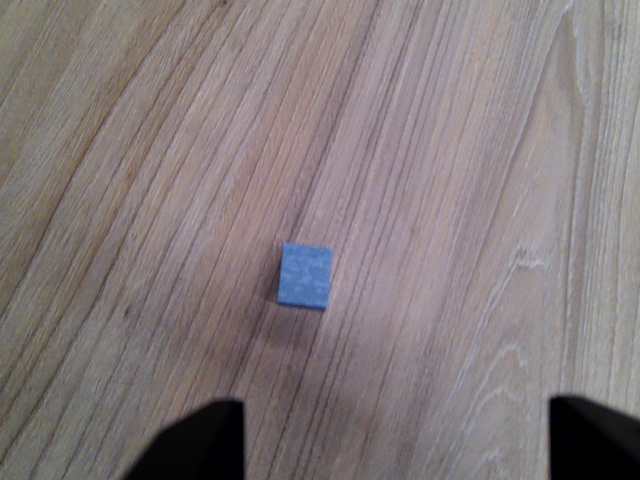stone: (273, 237, 336, 315)
